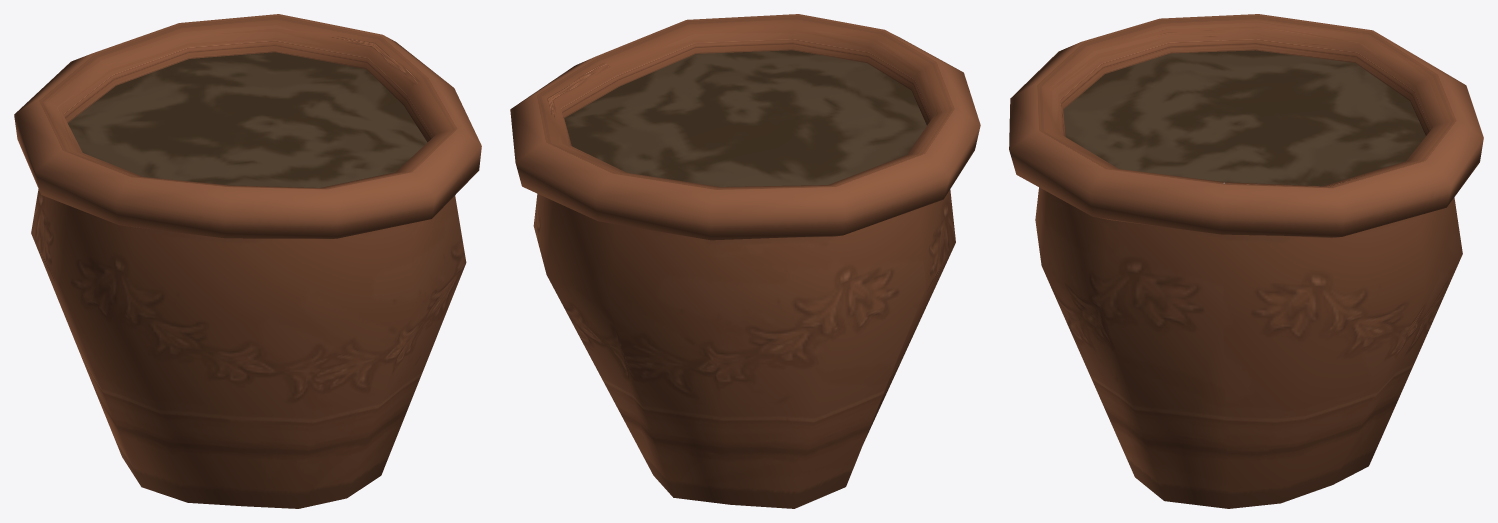
The model's file is SM_PROP_plant_pot_city_11.fbx.
The picture shows the model from 3 angles, left to right: view 1: azimuth 30°, elevation 25°; view 2: azimuth 150°, elevation 25°; view 3: azimuth 270°, elevation 25°; orthographic projection.
Parts seen in each view (by area): view 1: SM_PROP_plant_pot_city_11; view 2: SM_PROP_plant_pot_city_11; view 3: SM_PROP_plant_pot_city_11.
Boxes of the visible parts, <box> form: SM_PROP_plant_pot_city_11: <box>14,14,481,508</box>; SM_PROP_plant_pot_city_11: <box>510,14,980,508</box>; SM_PROP_plant_pot_city_11: <box>1009,14,1483,508</box>.
Size of the model in its own units: 58.16 by 50.54 by 59.69.
